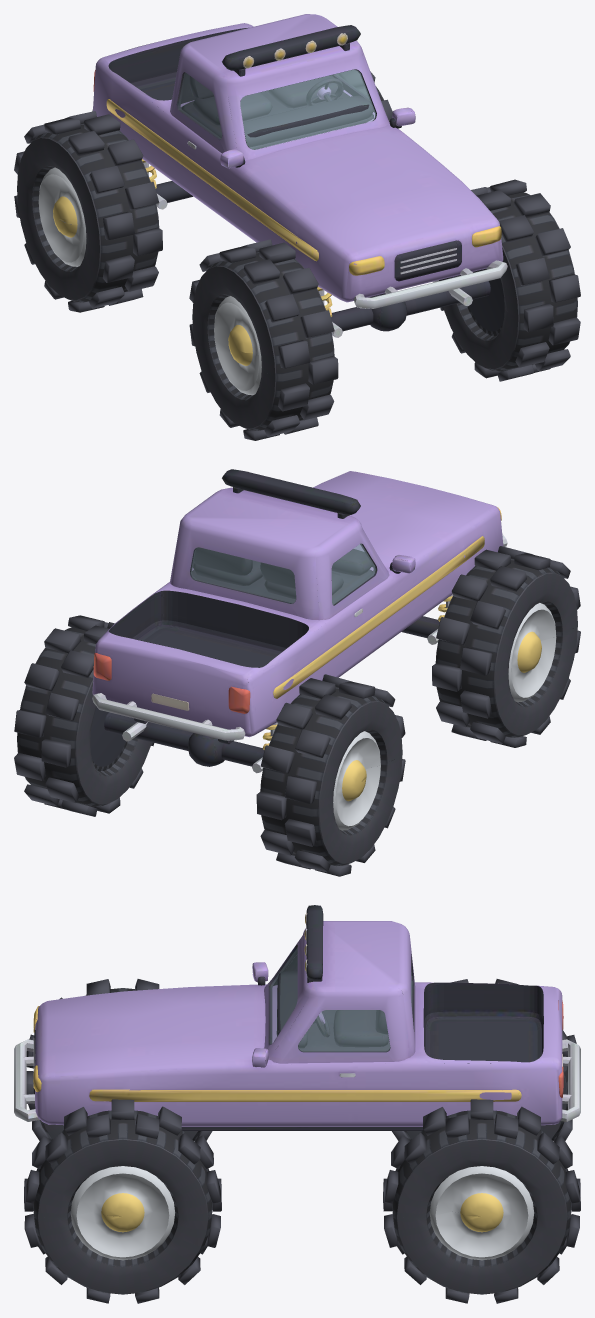
Rendered from monster_truck.glb.
3 views of the same model, one above another, from view 1: azimuth 30°, elevation 25°; view 2: azimuth 150°, elevation 25°; view 3: azimuth 270°, elevation 25° (orthographic). The views are drawn at different scales.
Visible parts, largest first — view 1: monster-truck_body; view 2: monster-truck_body; view 3: monster-truck_body.
Part boxes in pixels (x1,y1,x2,y2): monster-truck_body: [14, 14, 580, 440]; monster-truck_body: [14, 469, 580, 876]; monster-truck_body: [14, 905, 580, 1303].
Bounding box in the file's own units: 2.92 × 2.63 × 4.58.
18 materials, 5 textured.
